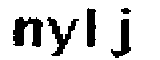j: (109, 6, 140, 60)
l: (83, 5, 108, 51)
n: (10, 13, 44, 52)
y: (44, 15, 79, 60)
